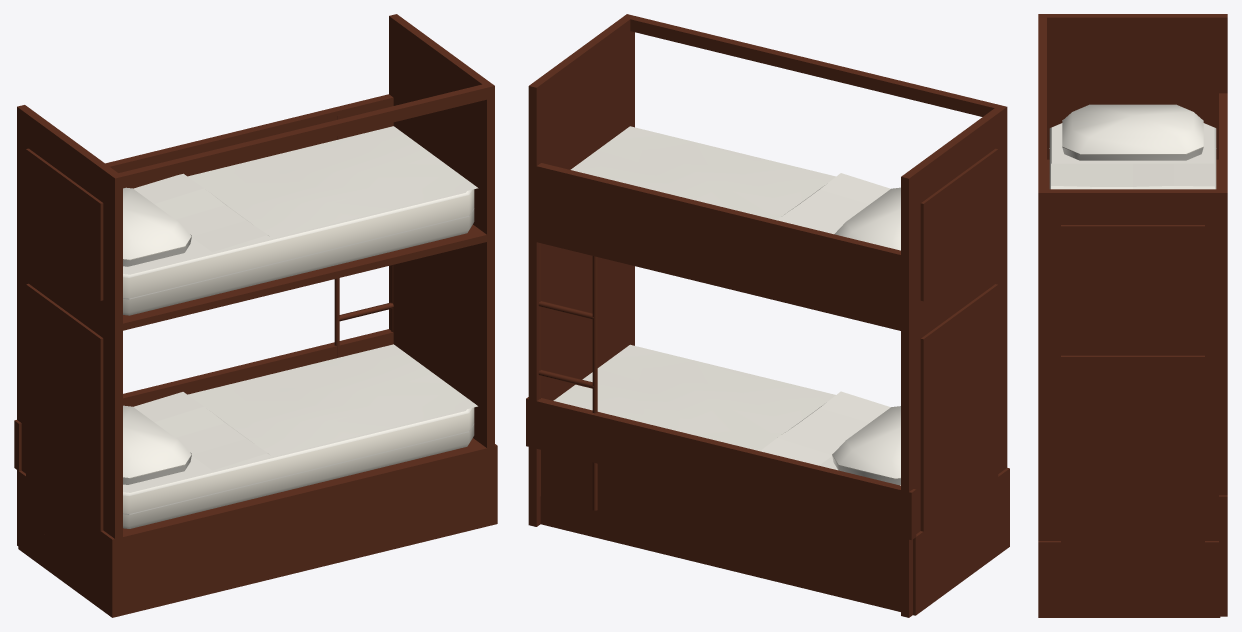
File: parametric-sized-berth-double-l170-1st.glb
3 views of the same model, side by side, from view 1: azimuth 30°, elevation 25°; view 2: azimuth 150°, elevation 25°; view 3: azimuth 270°, elevation 25° (orthographic). The views are drawn at different scales.
Visible parts, largest first — view 1: parametric-sized-berth-double-l170-1st; view 2: parametric-sized-berth-double-l170-1st; view 3: parametric-sized-berth-double-l170-1st.
Part boxes in pixels (x1,y1,x2,y2): parametric-sized-berth-double-l170-1st: (14, 14, 497, 617); parametric-sized-berth-double-l170-1st: (526, 14, 1009, 617); parametric-sized-berth-double-l170-1st: (1038, 14, 1227, 617).
Size of the model in its own units: 1.7 by 1.85 by 0.75.
